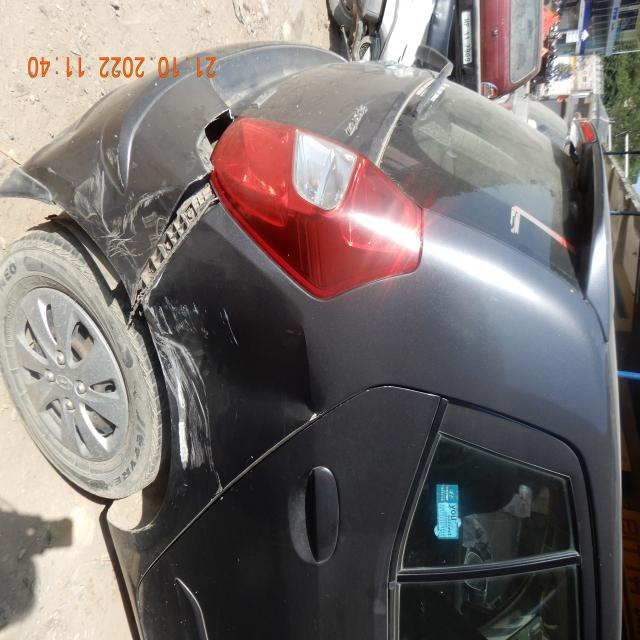damage: (73, 179, 220, 492), (198, 99, 230, 172), (290, 383, 321, 424)
